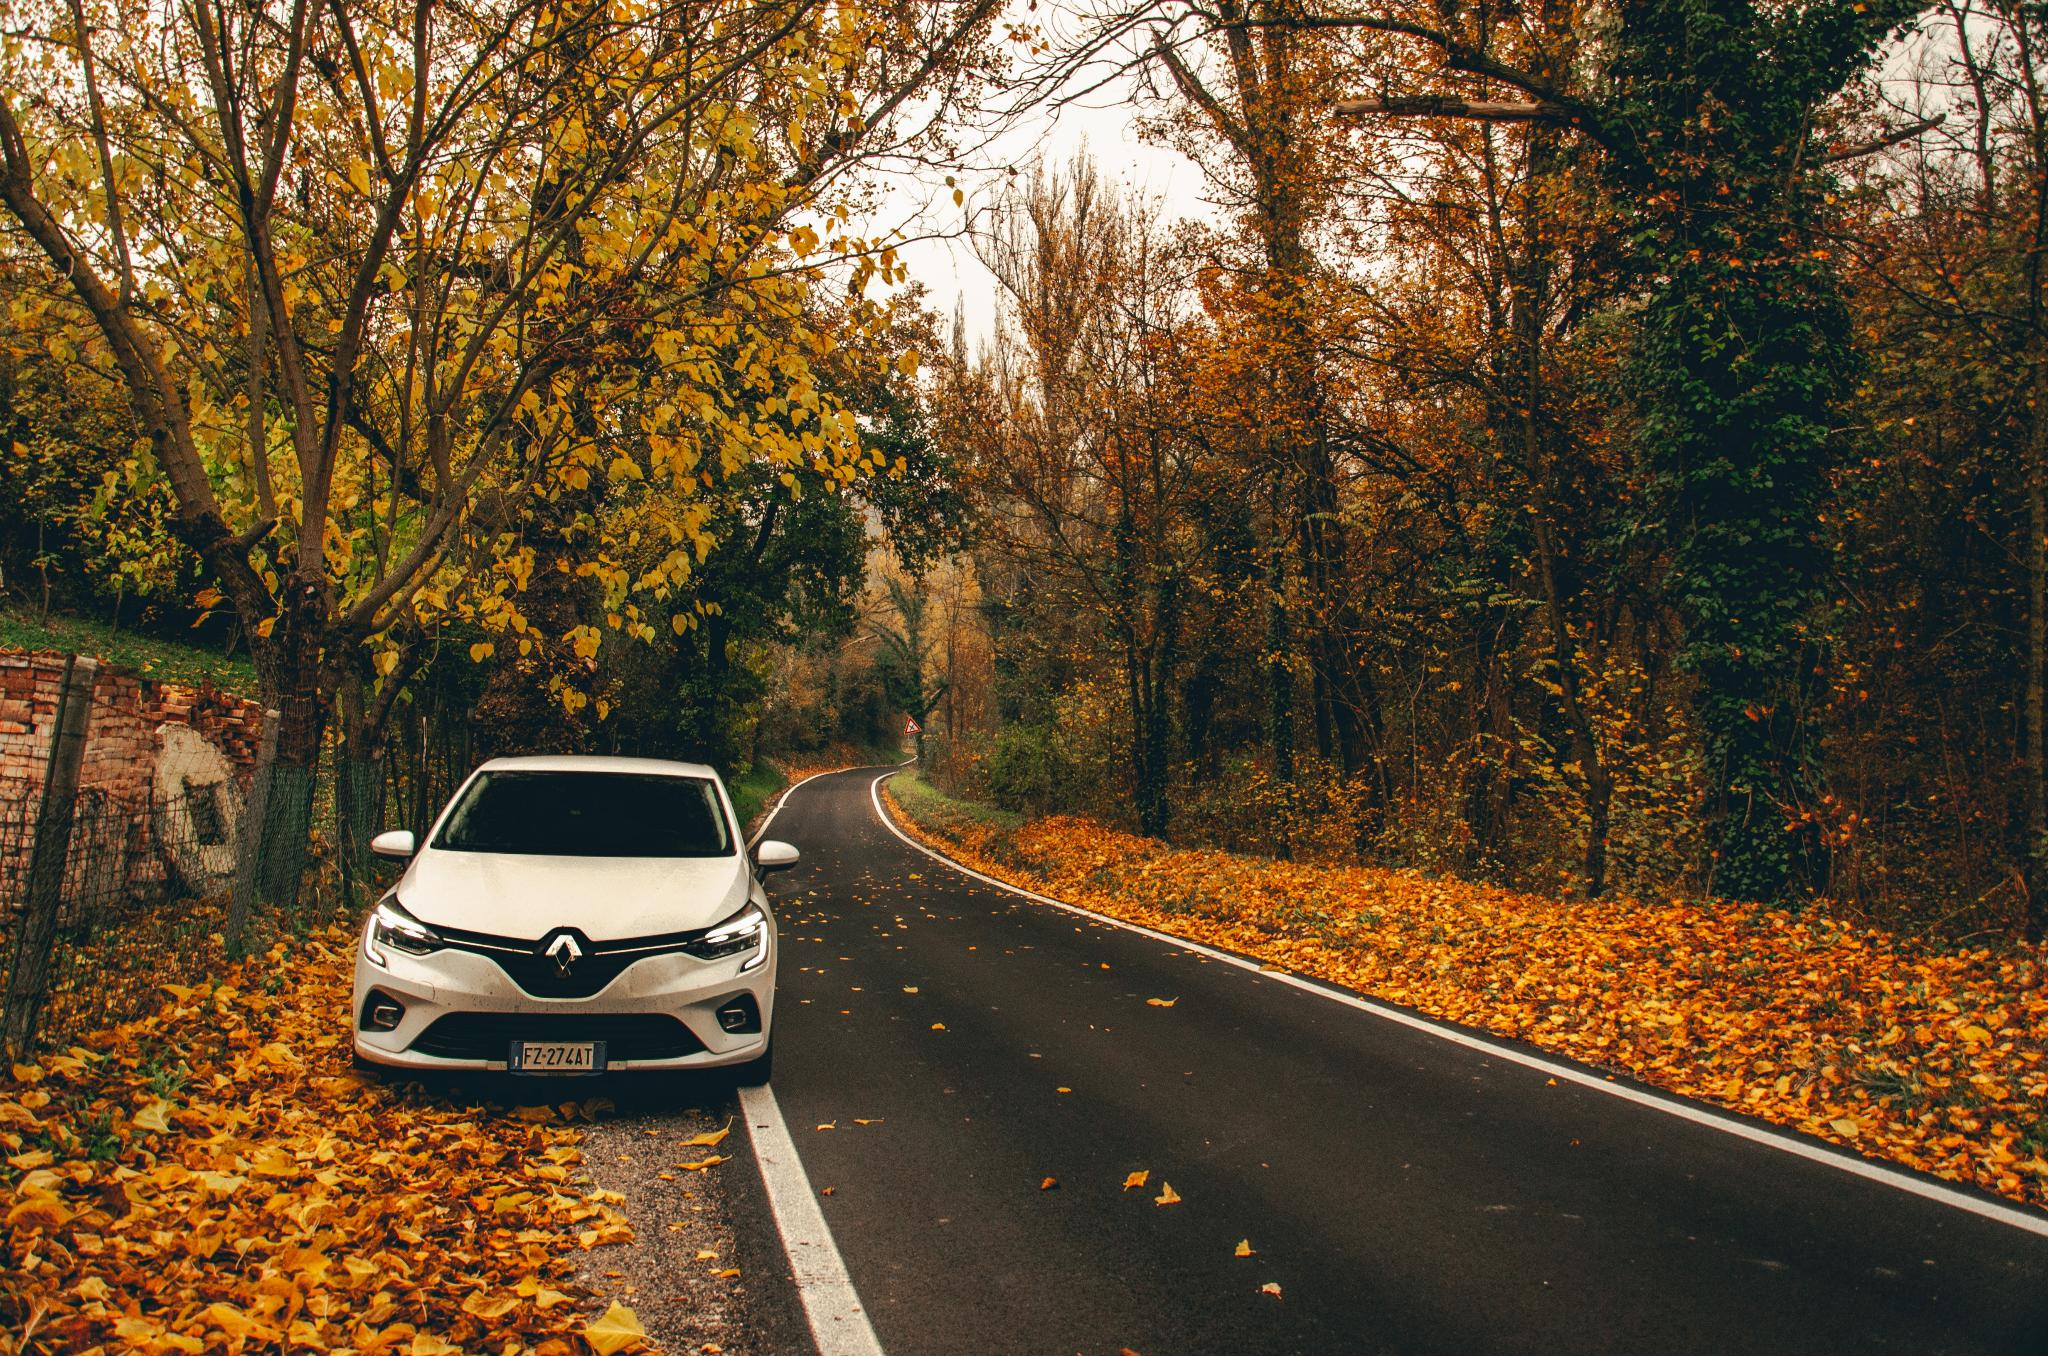Renault: (533, 920, 595, 998)
